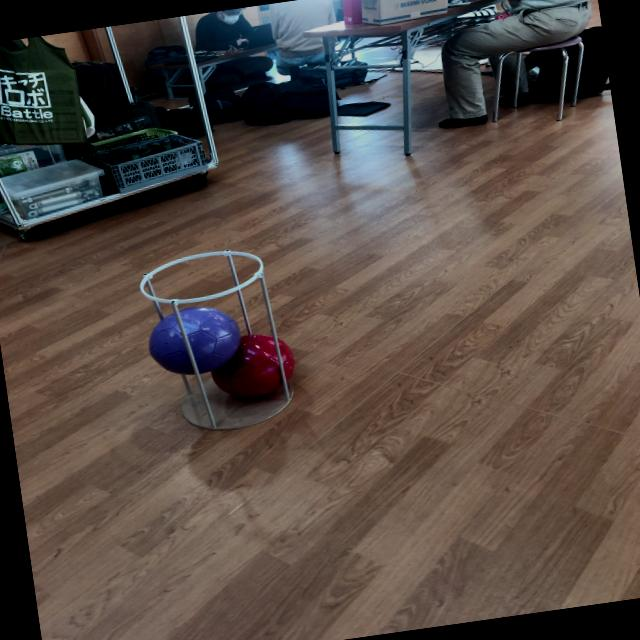purple_ball: (142, 303, 244, 382)
red_ball: (205, 332, 302, 408)
